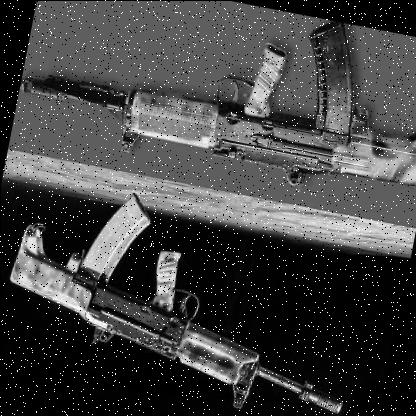rifle: (0, 169, 374, 416), (9, 0, 416, 223)
